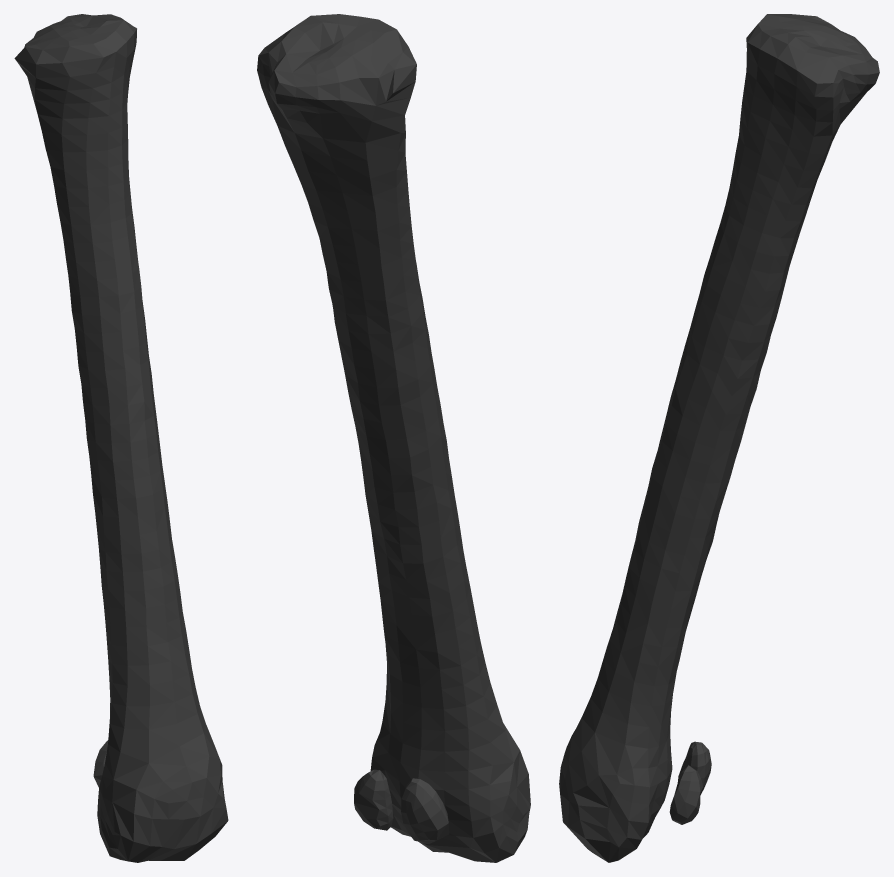
File: LHL_cannon.glb
3 renders of one model, left to right at view 1: azimuth 30°, elevation 25°; view 2: azimuth 150°, elevation 25°; view 3: azimuth 270°, elevation 25°, orthographic. The views are drawn at different scales.
Parts seen in each view (by area): view 1: LHL_cannon; view 2: LHL_cannon; view 3: LHL_cannon.
Boxes of the visible parts, x1=… form: LHL_cannon: x1=14, y1=14, x2=228, y2=862; LHL_cannon: x1=257, y1=14, x2=530, y2=862; LHL_cannon: x1=559, y1=14, x2=879, y2=862.
Size of the model in its own units: 12.25 by 73.08 by 25.85.
1 material, 1 textured.
